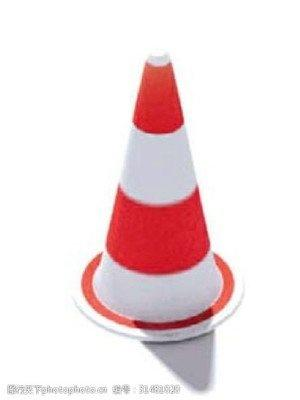cone_barrel: (85, 55, 227, 320)
